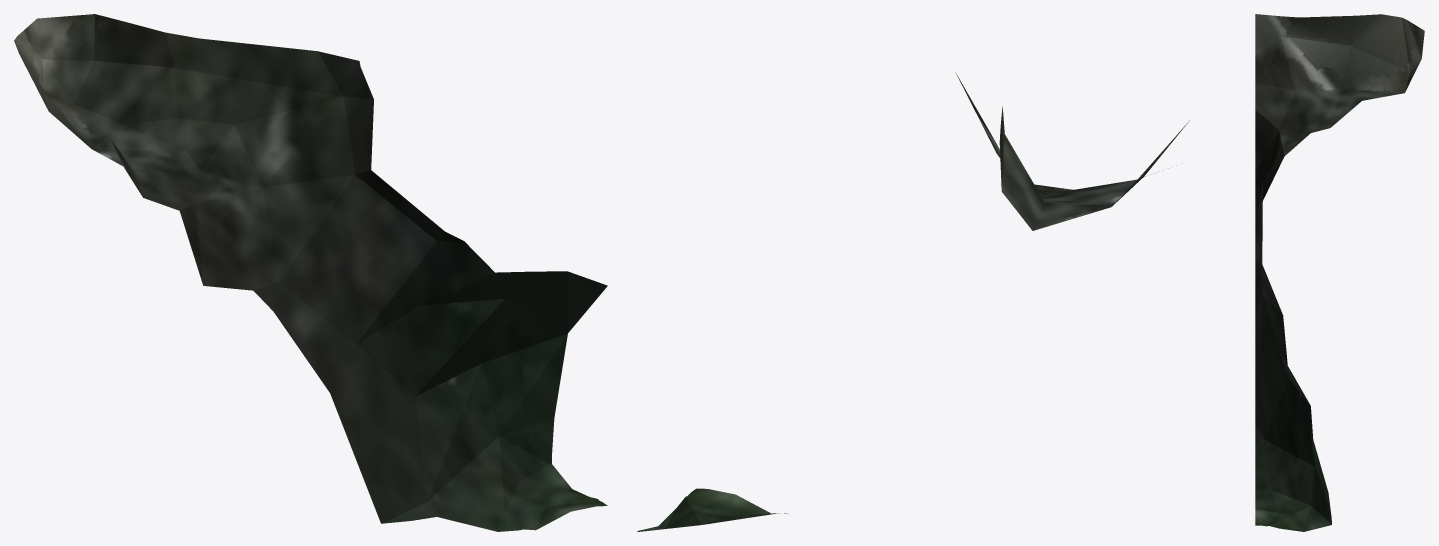
The picture shows the model from 3 angles, left to right: view 1: azimuth 30°, elevation 25°; view 2: azimuth 150°, elevation 25°; view 3: azimuth 270°, elevation 25°; orthographic projection. The views are drawn at different scales.
Bounding box in the file's own units: 1.88 × 1.86 × 0.8108.
Materials: 1 (1 with a texture image).
